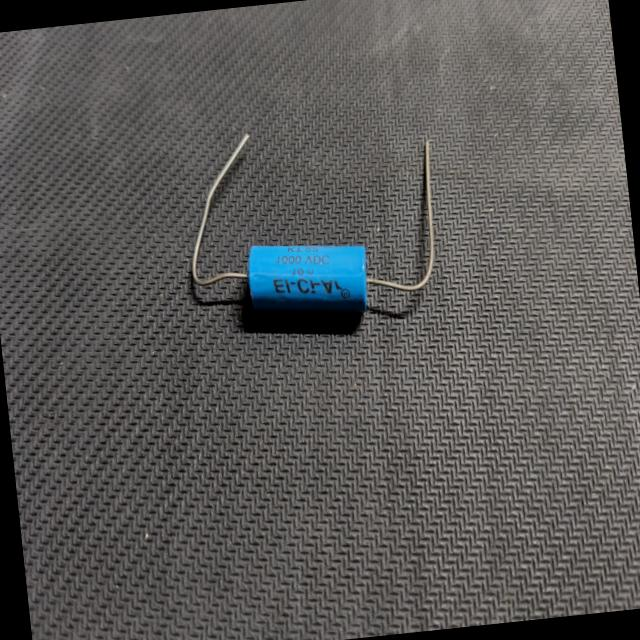capacitor: (168, 102, 458, 346)
